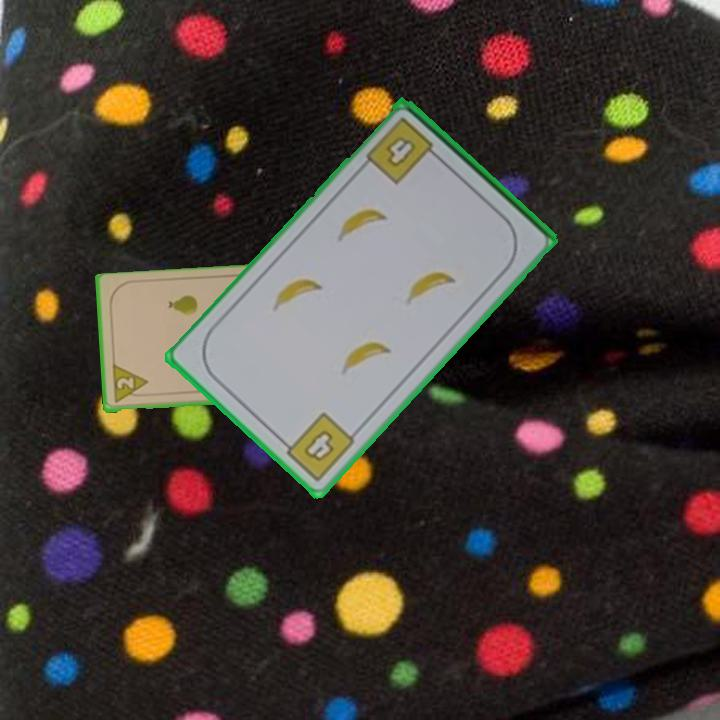2p: (109, 363, 151, 406)
4b: (276, 409, 358, 485), (362, 113, 443, 188)
